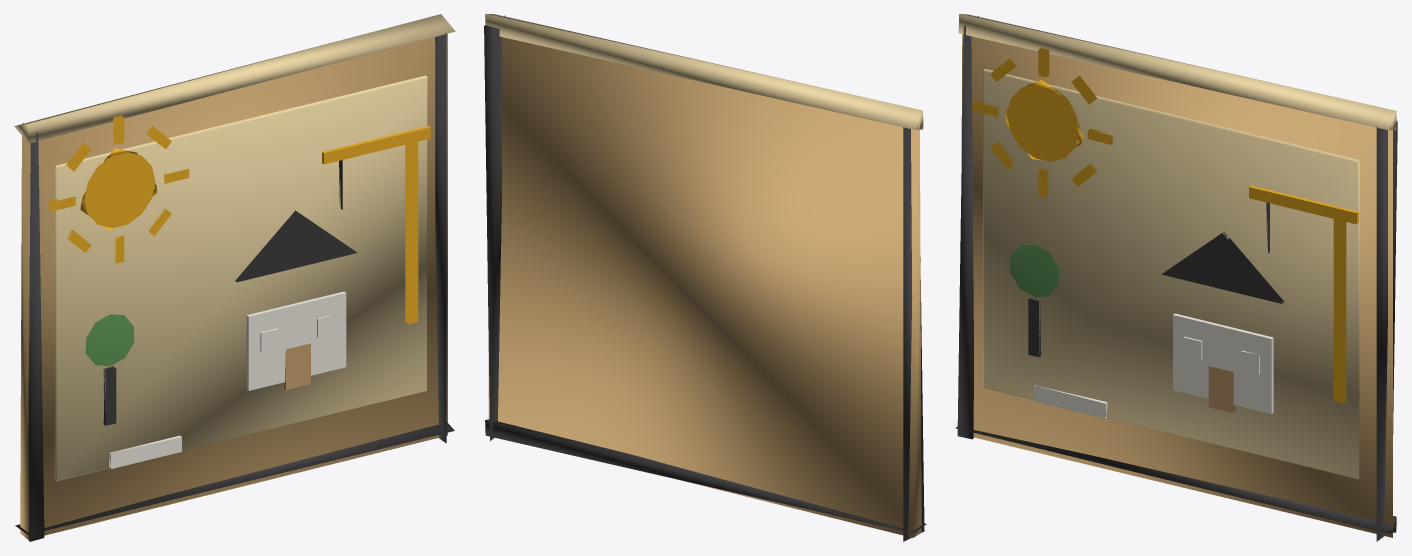
File: lod_tapume_panel.glb
3 views of the same model, side by side, from view 1: azimuth 30°, elevation 25°; view 2: azimuth 150°, elevation 25°; view 3: azimuth 330°, elevation 25° (orthographic).
Visible parts, largest first — view 1: tapume_panel; view 2: tapume_panel; view 3: tapume_panel.
Part boxes in pixels (x1,y1,x2,y2): tapume_panel: (14, 14, 455, 541); tapume_panel: (484, 14, 926, 541); tapume_panel: (955, 14, 1397, 541).
Size of the model in its own units: 2.41 by 2.26 by 0.1731.
